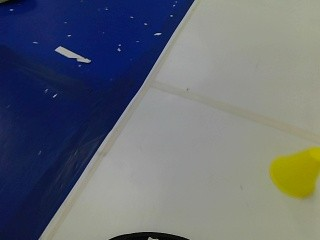cone: (269, 135, 318, 201)
